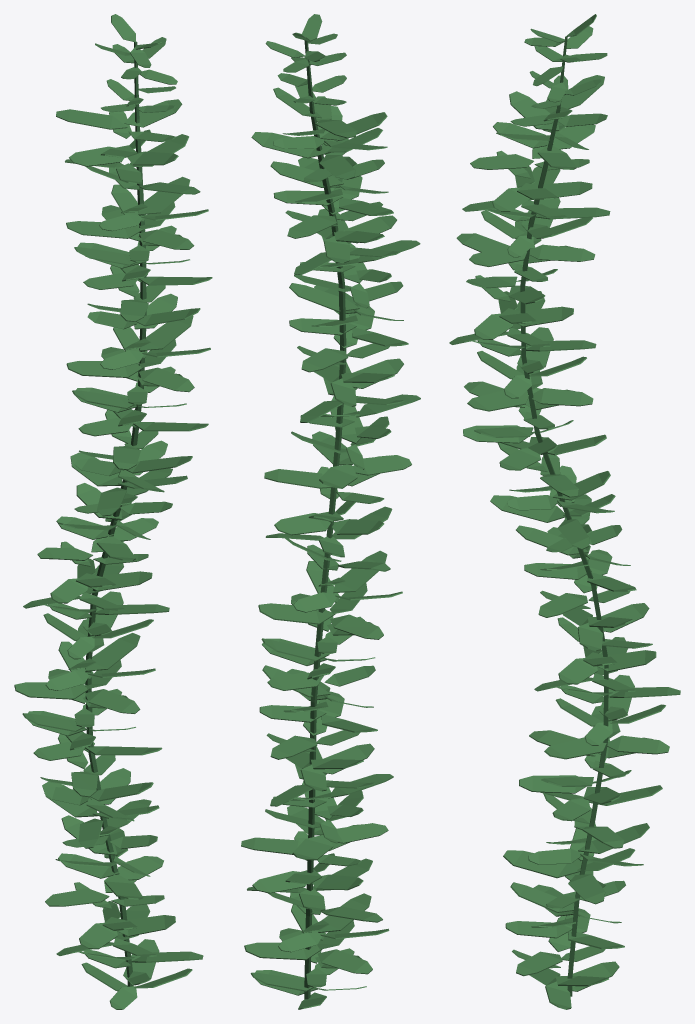
File: Algae-1.glb
The picture shows the model from 3 angles, left to right: view 1: azimuth 30°, elevation 25°; view 2: azimuth 150°, elevation 25°; view 3: azimuth 270°, elevation 25°; orthographic projection.
Visible parts, largest first — view 1: Seaweed_014; view 2: Seaweed_014; view 3: Seaweed_014.
Part boxes in pixels (x1,y1,x2,y2): Seaweed_014: [14, 14, 212, 1009]; Seaweed_014: [241, 14, 420, 1009]; Seaweed_014: [449, 14, 680, 1009].
Size of what is drawn, in the model's own units: 1.29 by 8.05 by 1.73.
Materials: 1 (1 with a texture image).
